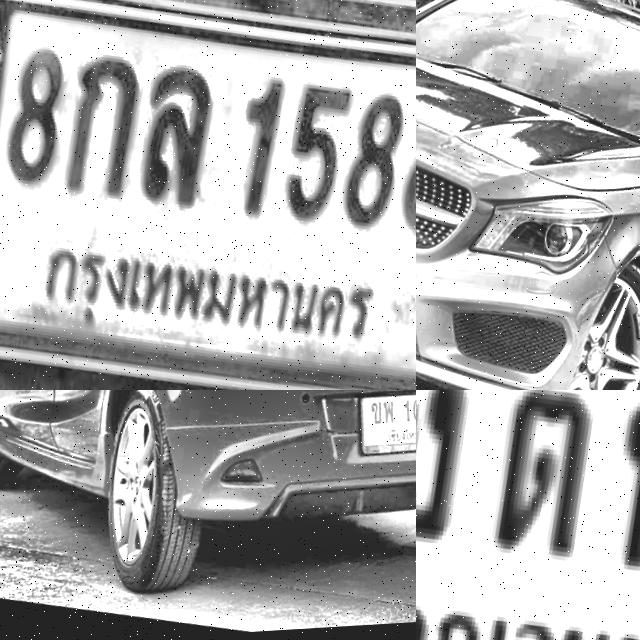license-plate: (0, 0, 416, 390), (416, 390, 640, 640), (339, 390, 416, 479)
